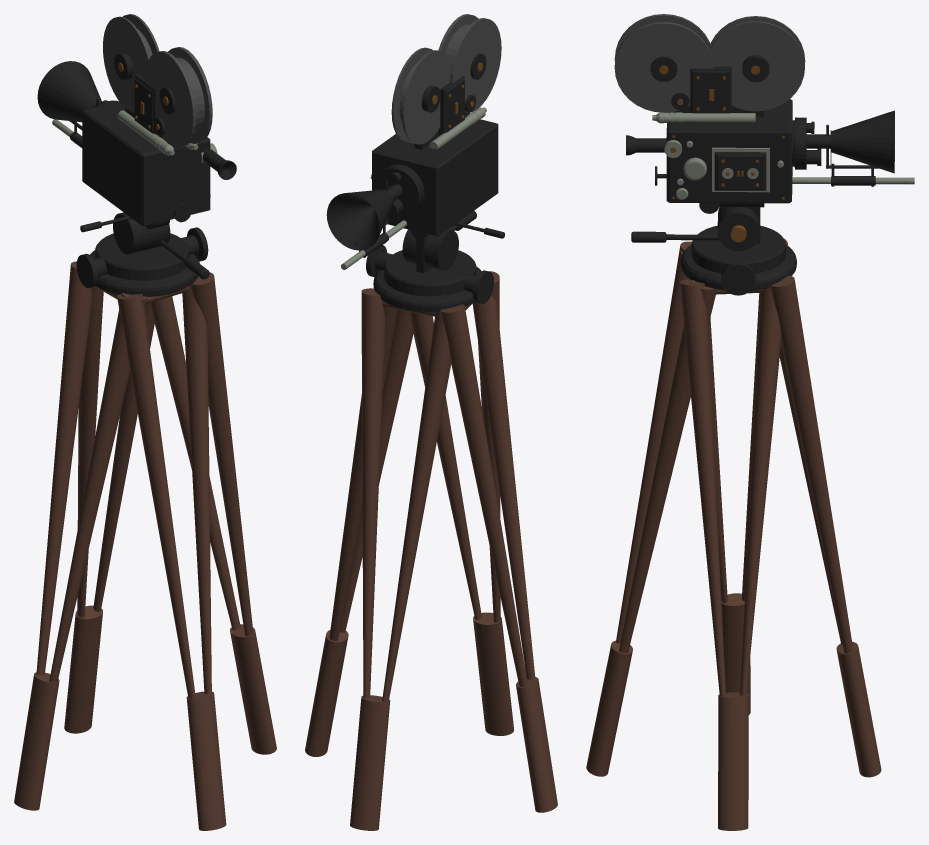
The model's file is 50 - Documentario con aggiunta interazione con oggetto.glb.
The picture shows the model from 3 angles, left to right: view 1: azimuth 30°, elevation 25°; view 2: azimuth 150°, elevation 25°; view 3: azimuth 270°, elevation 25°; orthographic projection. The views are drawn at different scales.
Visible parts, largest first — view 1: 50 doc con aggiunta di interazione (cinepresa vecchia=; view 2: 50 doc con aggiunta di interazione (cinepresa vecchia=; view 3: 50 doc con aggiunta di interazione (cinepresa vecchia=.
Part boxes in pixels (x1,y1,x2,y2): 50 doc con aggiunta di interazione (cinepresa vecchia=: (14,14,276,830); 50 doc con aggiunta di interazione (cinepresa vecchia=: (305,14,557,830); 50 doc con aggiunta di interazione (cinepresa vecchia=: (586,14,914,830).
Bounding box in the file's own units: 0.5643 × 1.59 × 0.6278.
